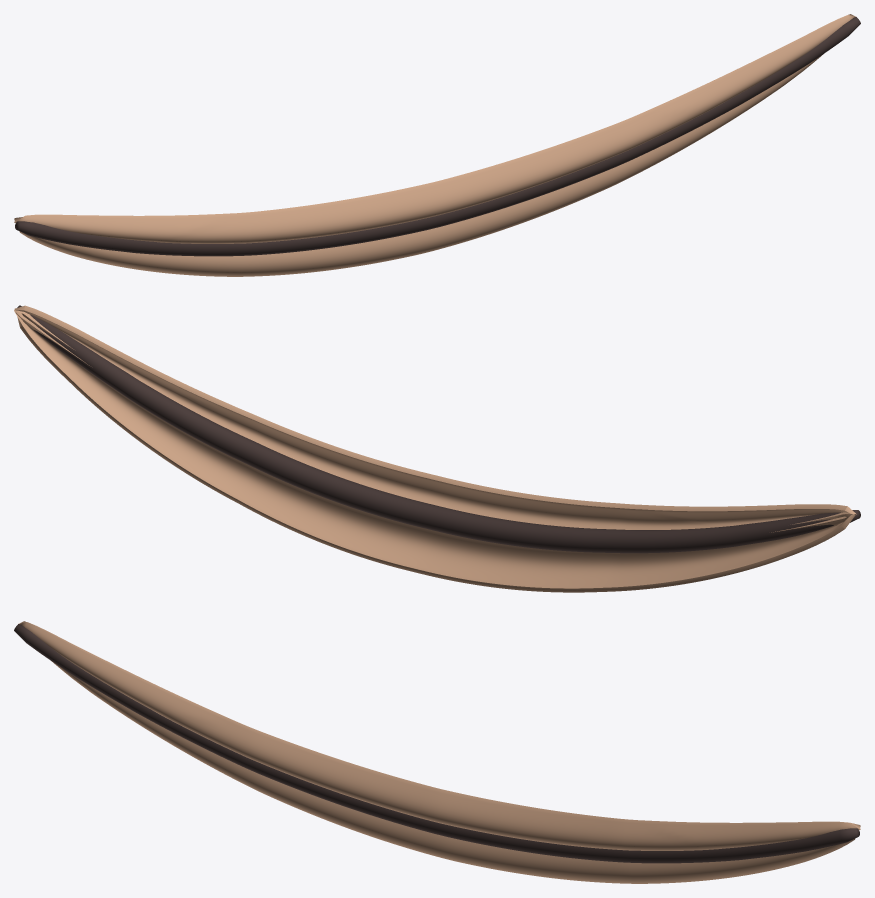
Rendered from Masculine-mouth-lips.glb.
3 views of the same model, one above another, from view 1: azimuth 30°, elevation 25°; view 2: azimuth 150°, elevation 25°; view 3: azimuth 330°, elevation 25° (orthographic).
Parts seen in each view (by area): view 1: Face / soft lip 1, Face / soft lip -1, Face / lip seam; view 2: Face / soft lip -1, Face / soft lip 1, Face / lip seam; view 3: Face / soft lip 1, Face / soft lip -1, Face / lip seam.
Part boxes in pixels (<box>): Face / soft lip 1: <box>14,14,855,243</box>; Face / soft lip -1: <box>14,16,856,276</box>; Face / lip seam: <box>15,17,860,256</box>; Face / soft lip -1: <box>14,308,856,592</box>; Face / soft lip 1: <box>14,305,856,529</box>; Face / lip seam: <box>17,305,860,553</box>; Face / soft lip 1: <box>19,621,860,850</box>; Face / soft lip -1: <box>18,623,860,883</box>; Face / lip seam: <box>14,624,859,863</box>.
Size of the model in its own units: 0.1248 by 0.0216 by 0.0066.
